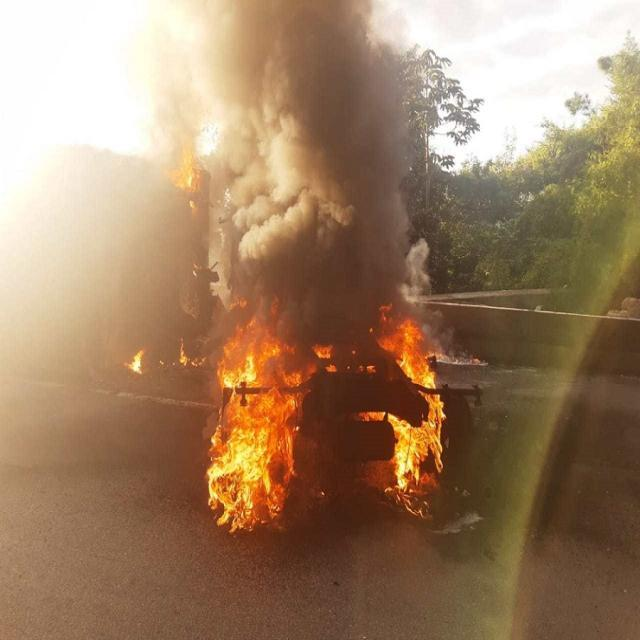Fire: (207, 294, 319, 536), (366, 303, 446, 519), (310, 336, 377, 378), (166, 140, 203, 192), (159, 338, 208, 368), (423, 344, 485, 366), (124, 346, 146, 374), (192, 262, 204, 278), (189, 198, 200, 212)
Smoke: (210, 0, 407, 341), (137, 25, 208, 161), (406, 237, 452, 350)
